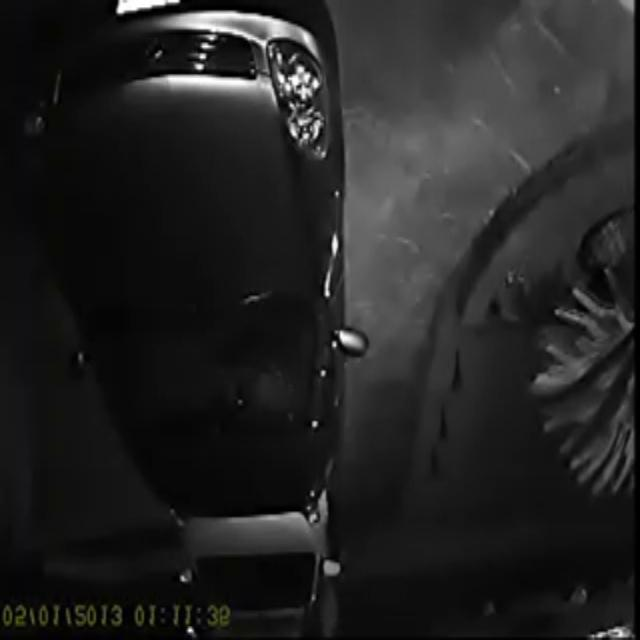car: (95, 12, 379, 523), (176, 420, 350, 627)
